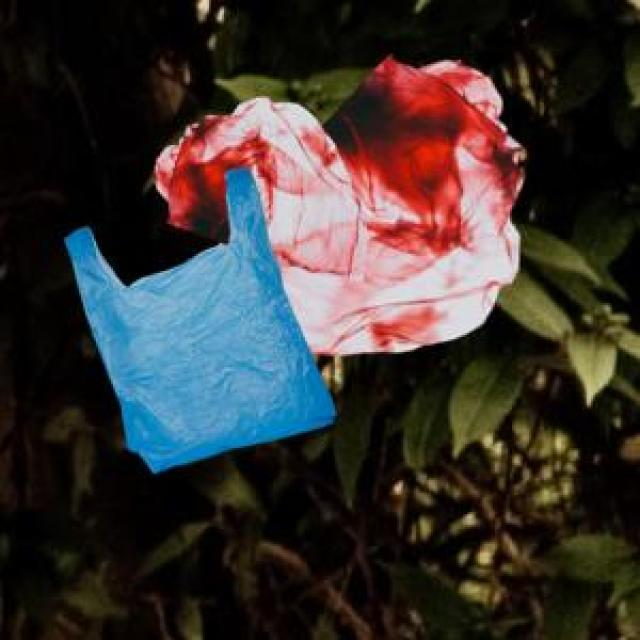waste: (66, 58, 525, 472)
